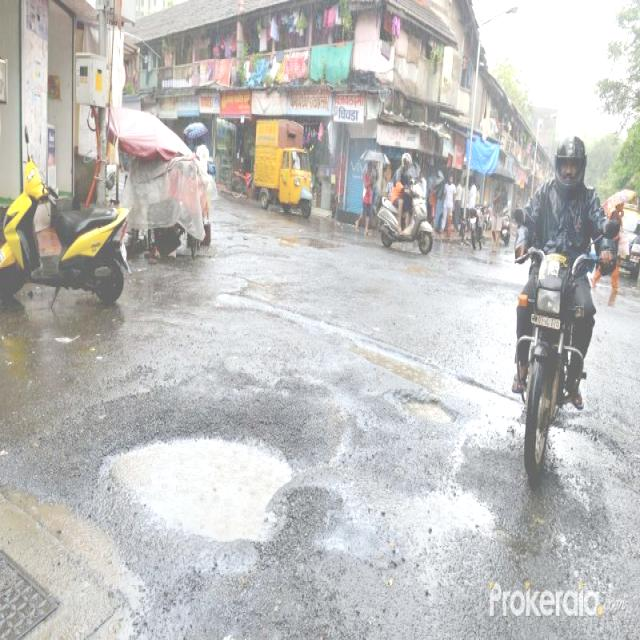Pothole: (63, 380, 342, 572), (0, 467, 161, 640), (354, 336, 457, 440)
